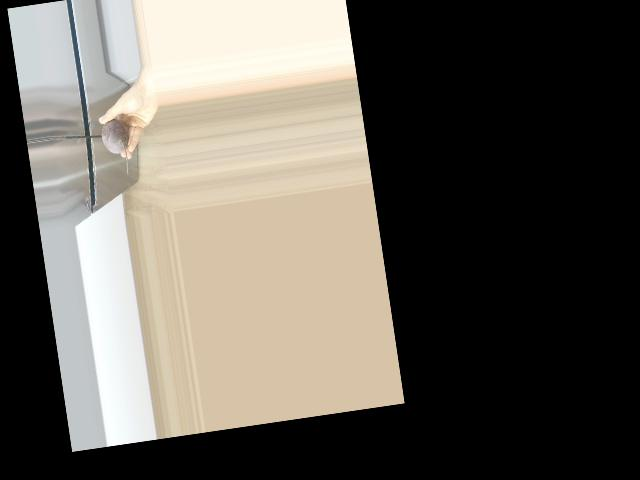beet: (99, 118, 134, 178)
